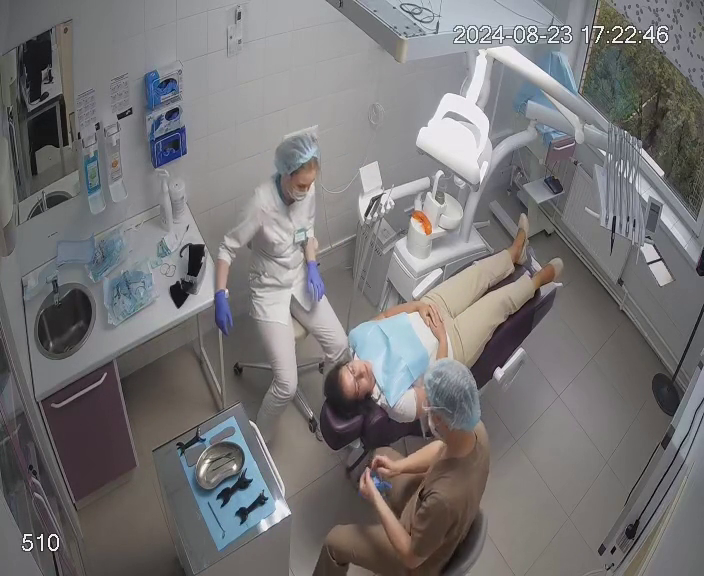Patient: (319, 211, 565, 451)
